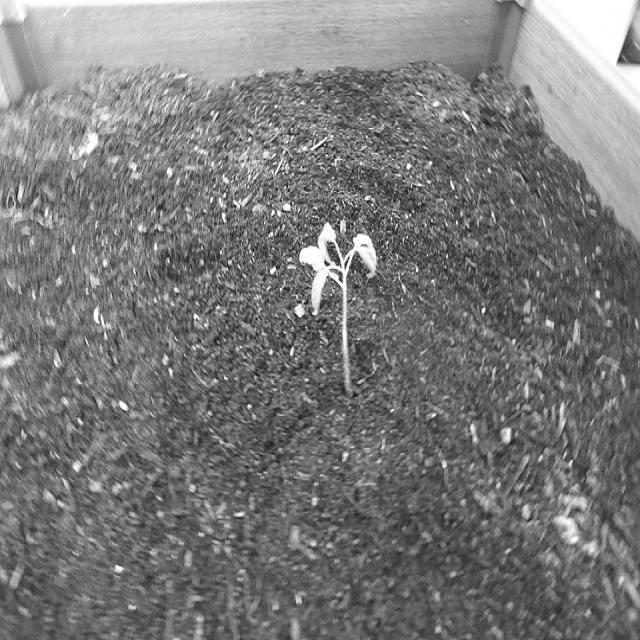Healthy: (296, 218, 381, 405)
